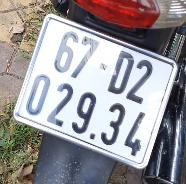0: (21, 70, 54, 120)
2: (44, 79, 79, 131), (123, 56, 158, 107)
3: (96, 99, 130, 151)
4: (119, 106, 153, 160)
6: (48, 27, 83, 78)
7: (67, 34, 103, 85)
9: (68, 87, 101, 139)
D: (103, 47, 137, 101)
